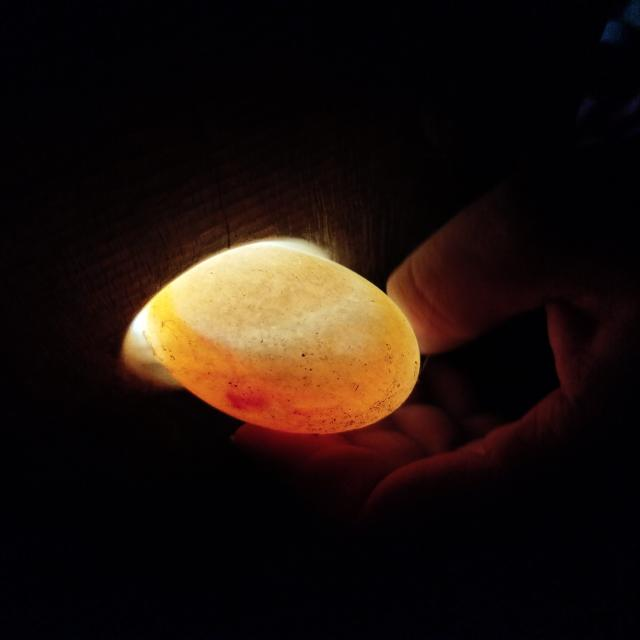Camara de Ar: (173, 241, 369, 351)
